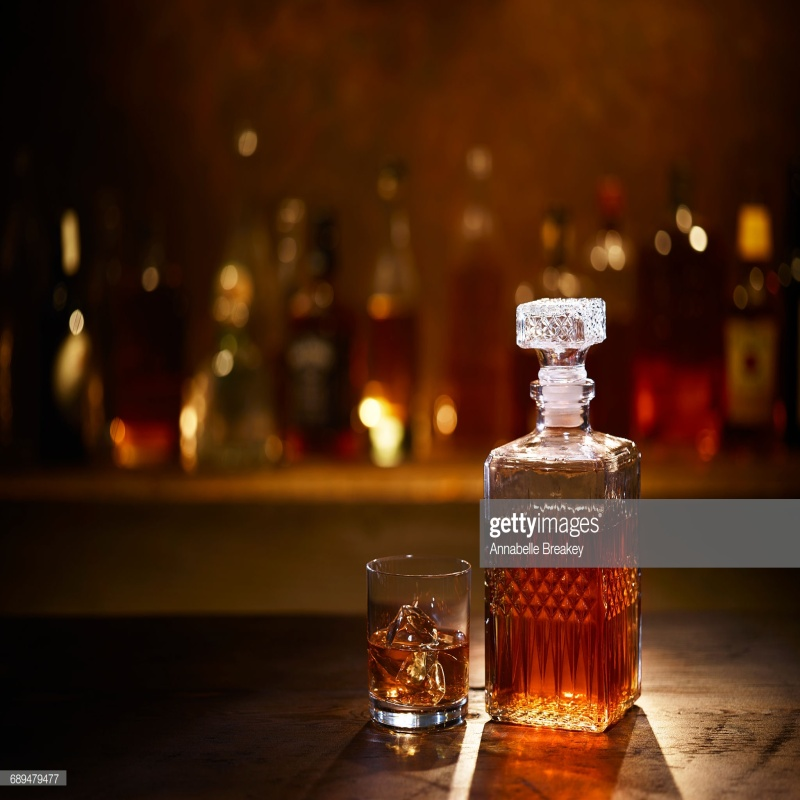whiskey: (361, 552, 473, 735)
